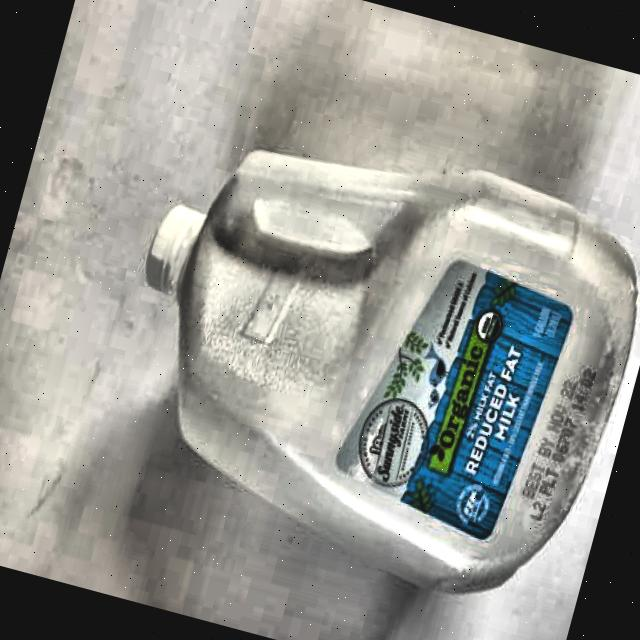plastic: (87, 99, 640, 613)
